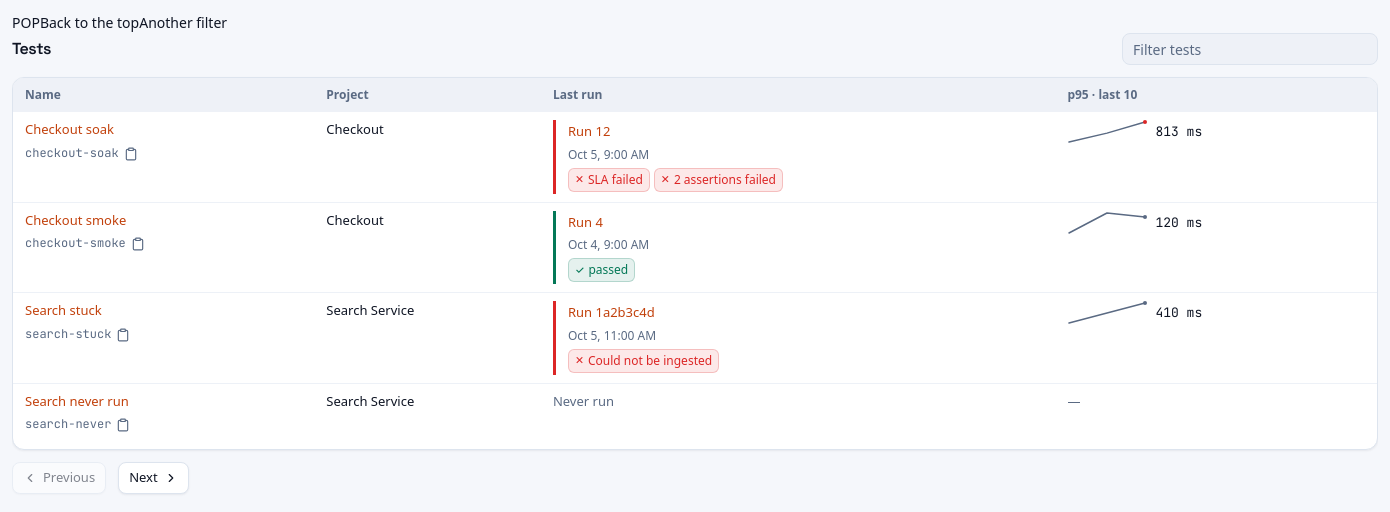
Test: HomeTests, the filter › asks once for a word, not once per letter
Type "c" into the search field labelled "Filter tests" at [1250, 49], box [1122,33,1378,65]
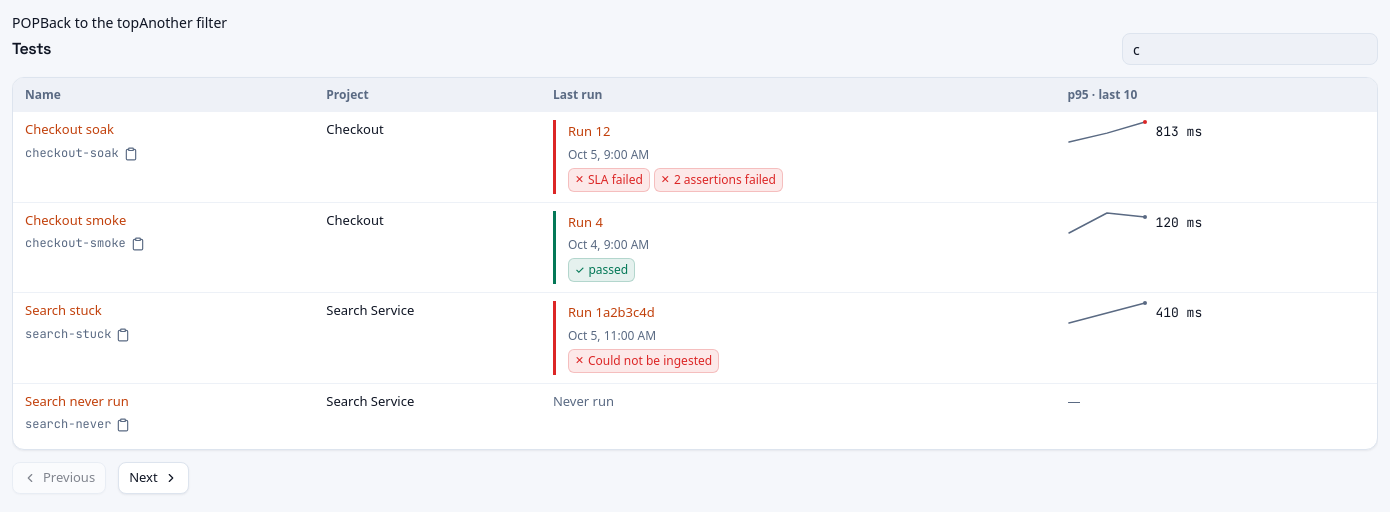
Replace the text in the search field named "Filter tests" with "ch" at [1250, 49], box [1122,33,1378,65]
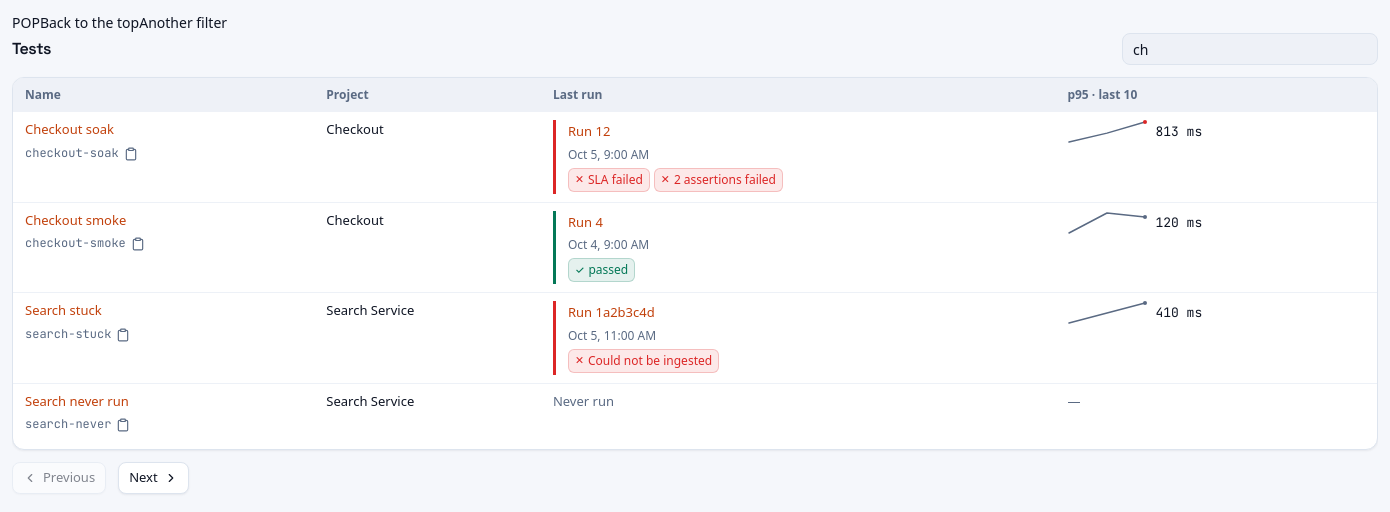
Replace the text in the search field named "Filter tests" with "che" at [1250, 49], box [1122,33,1378,65]
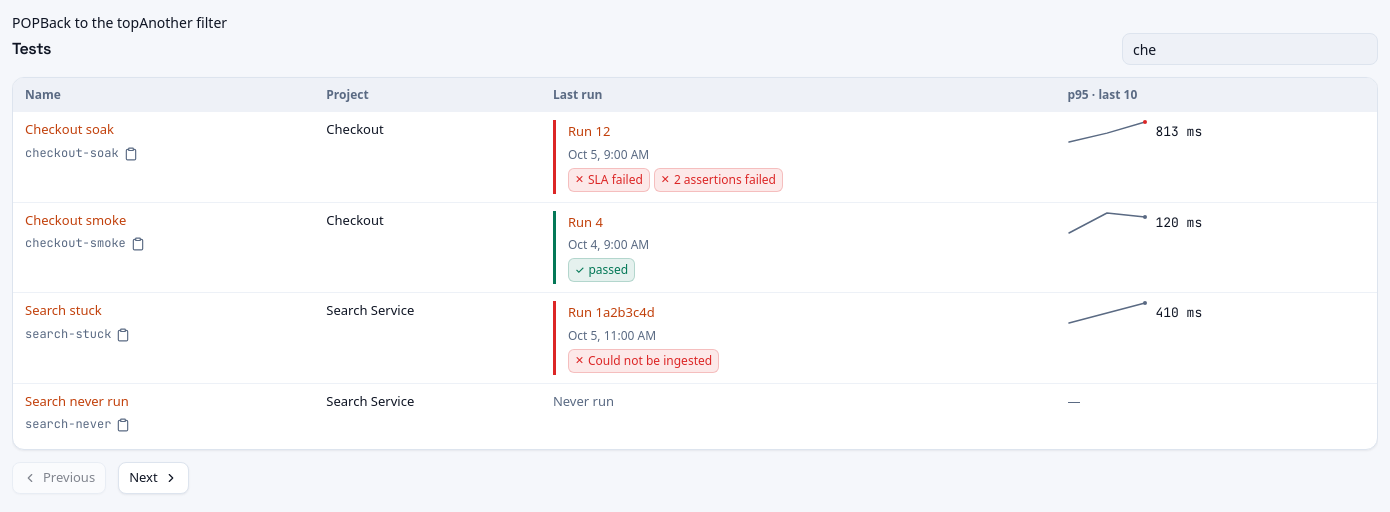
Replace the text in the search field named "Filter tests" with "chec" at [1250, 49], box [1122,33,1378,65]
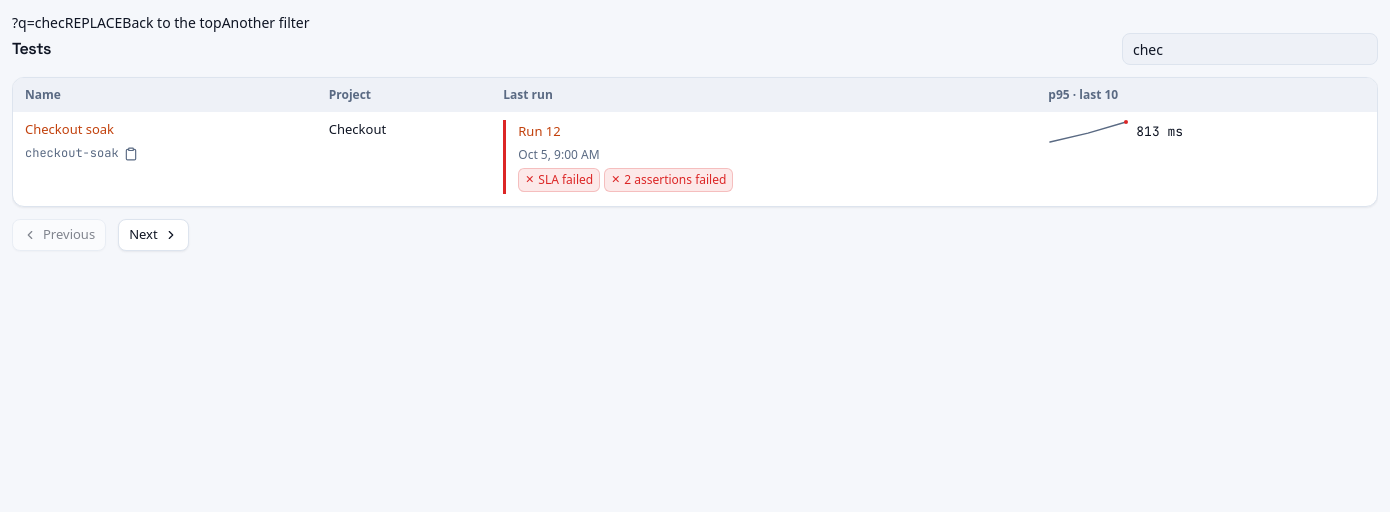
expect the text with test id "where" reads "?q=chec": met, box [12,13,65,32]
